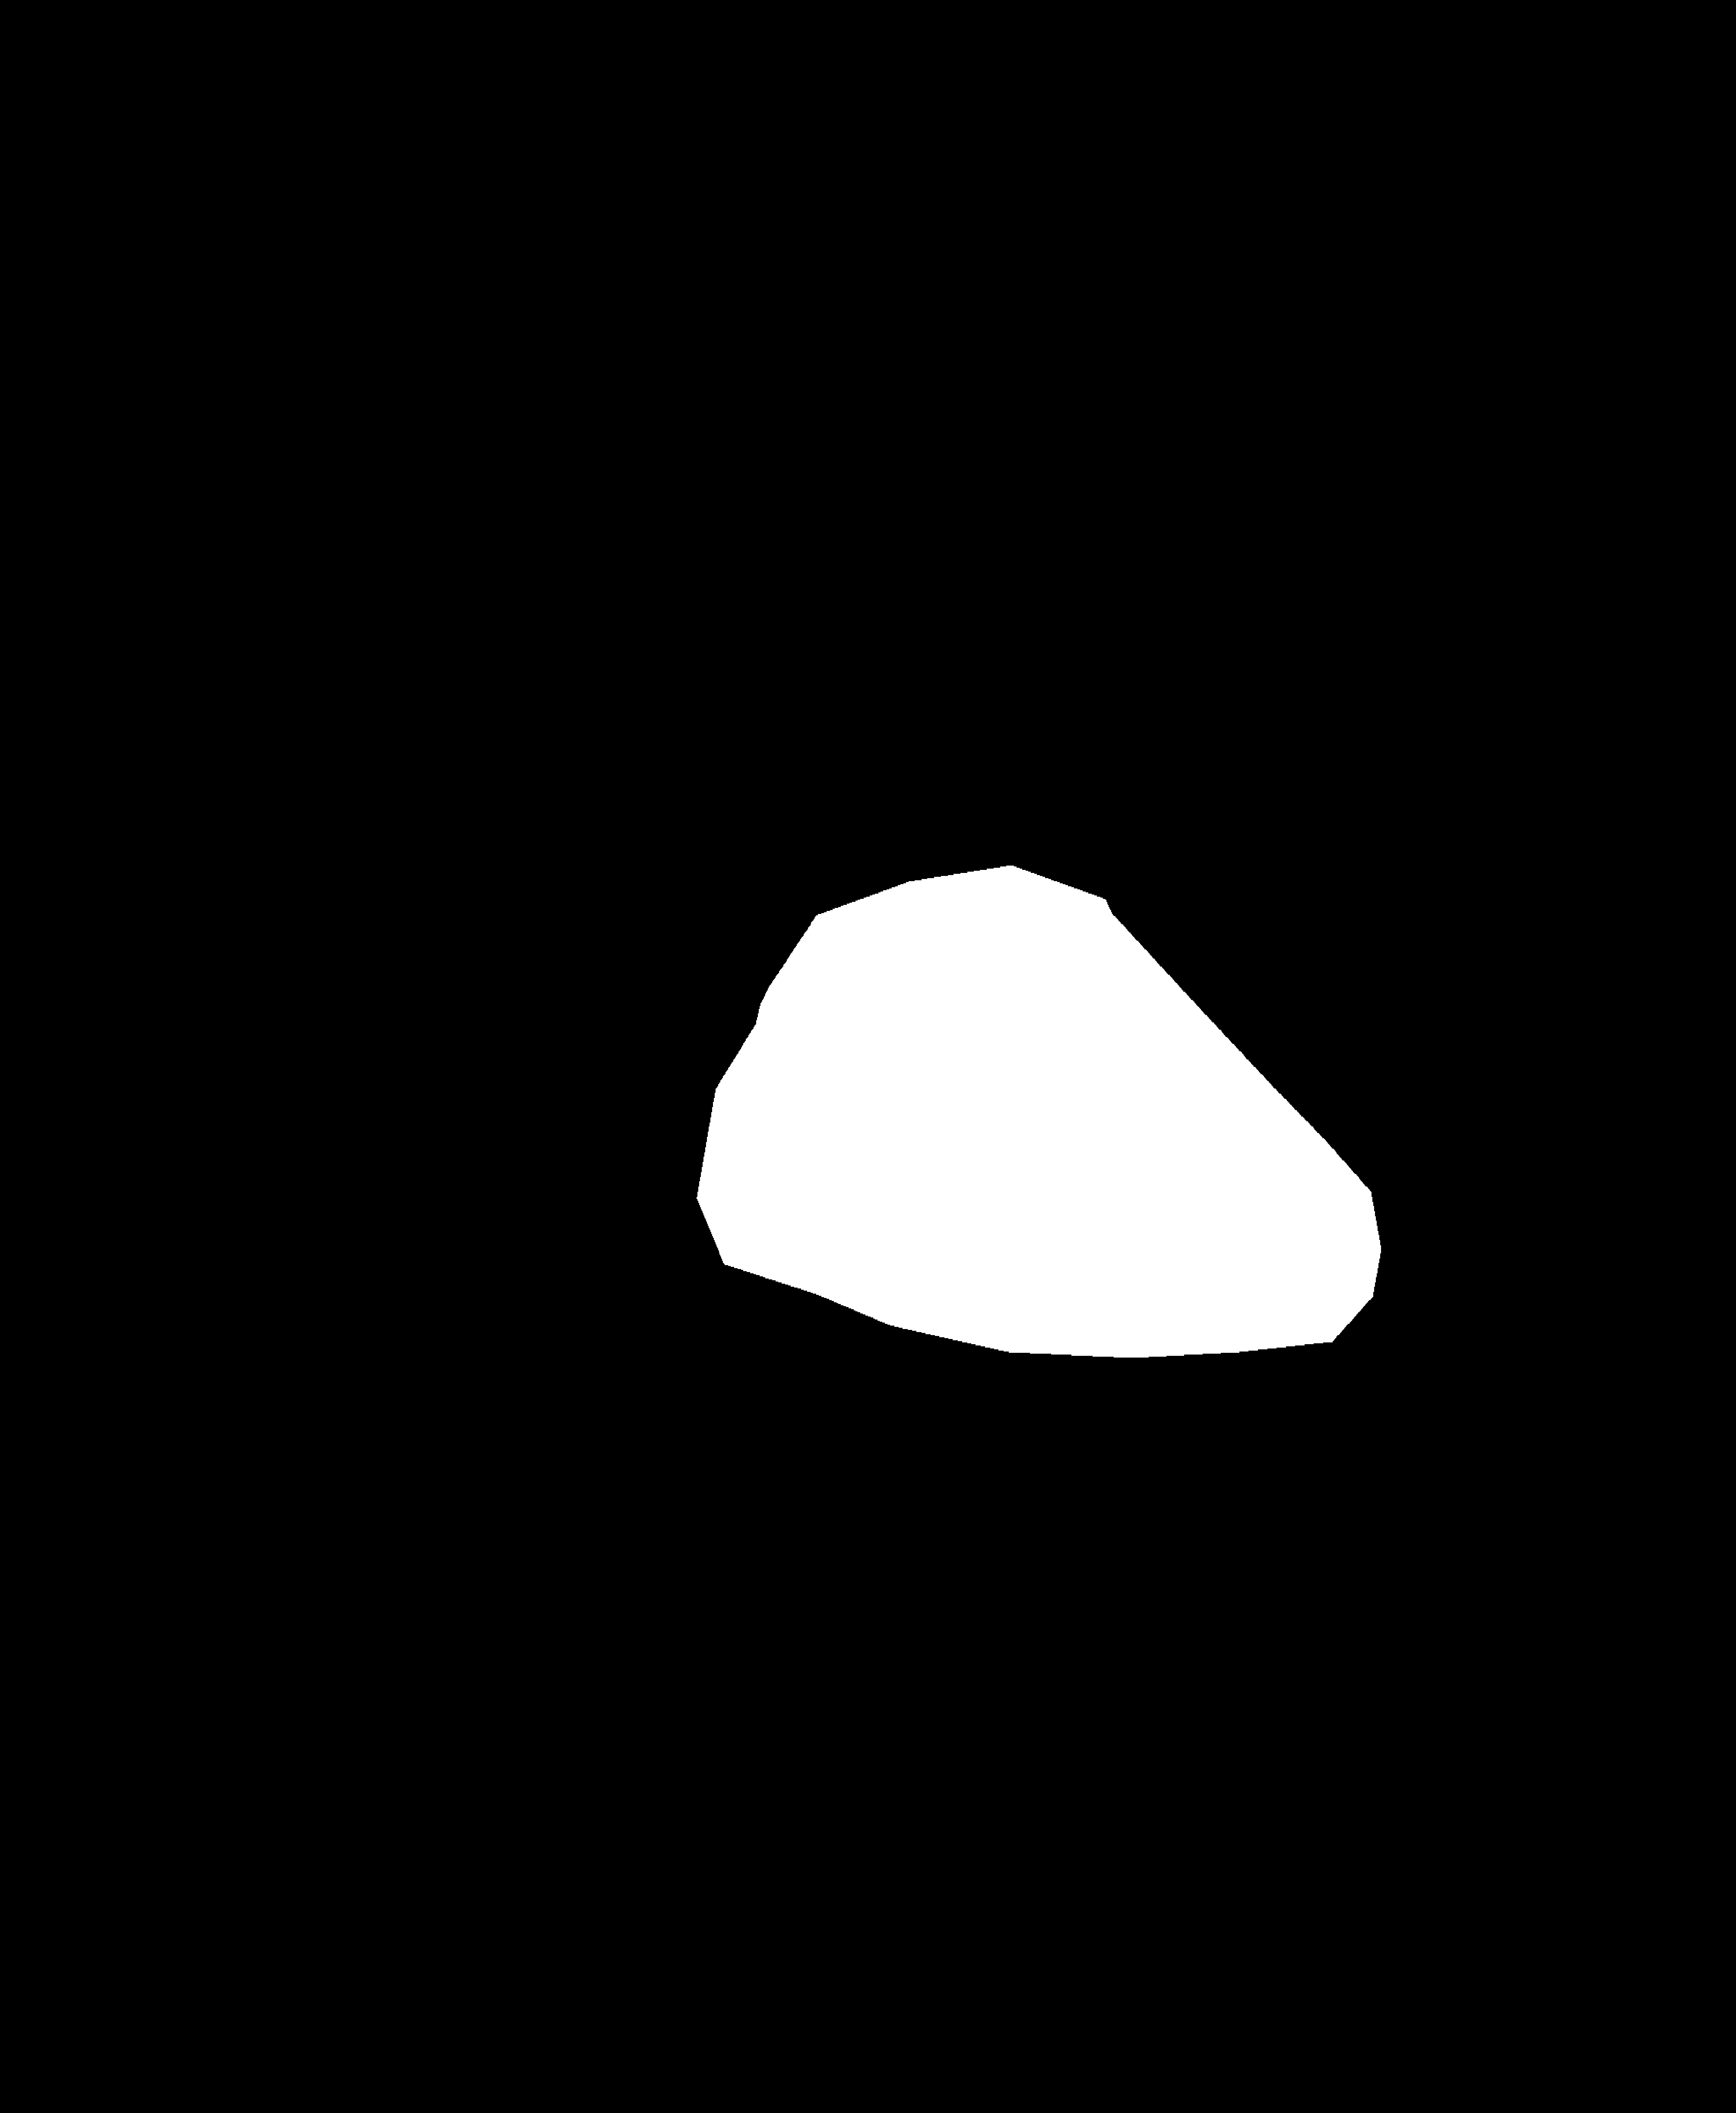heart: (702, 983, 1376, 1420)
left_lung: (230, 256, 816, 1416)
right_lung: (969, 249, 1529, 1416)
